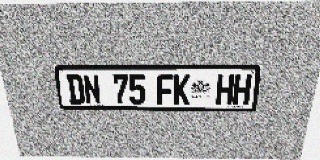5: (128, 74, 145, 104)
7: (112, 74, 129, 104)
D: (66, 74, 85, 104)
F: (157, 74, 173, 105)
H: (215, 74, 235, 105), (232, 74, 252, 105)
K: (173, 74, 190, 105)
N: (82, 74, 101, 104)
